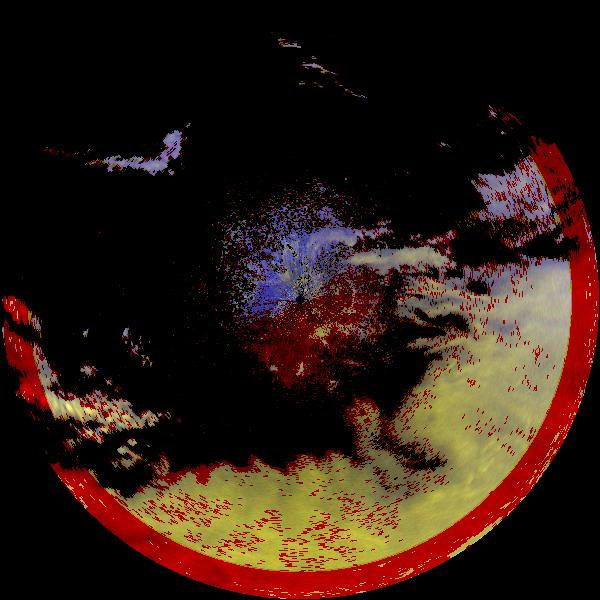roost: (285, 356, 312, 383)
